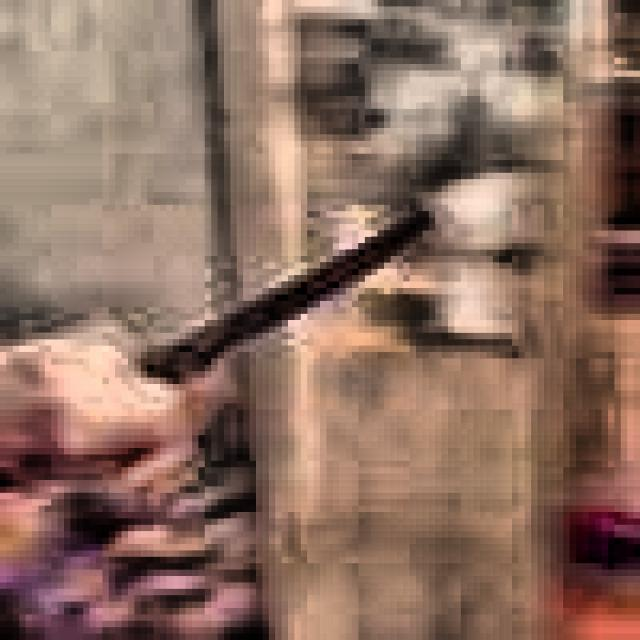knife: (139, 210, 436, 389)
